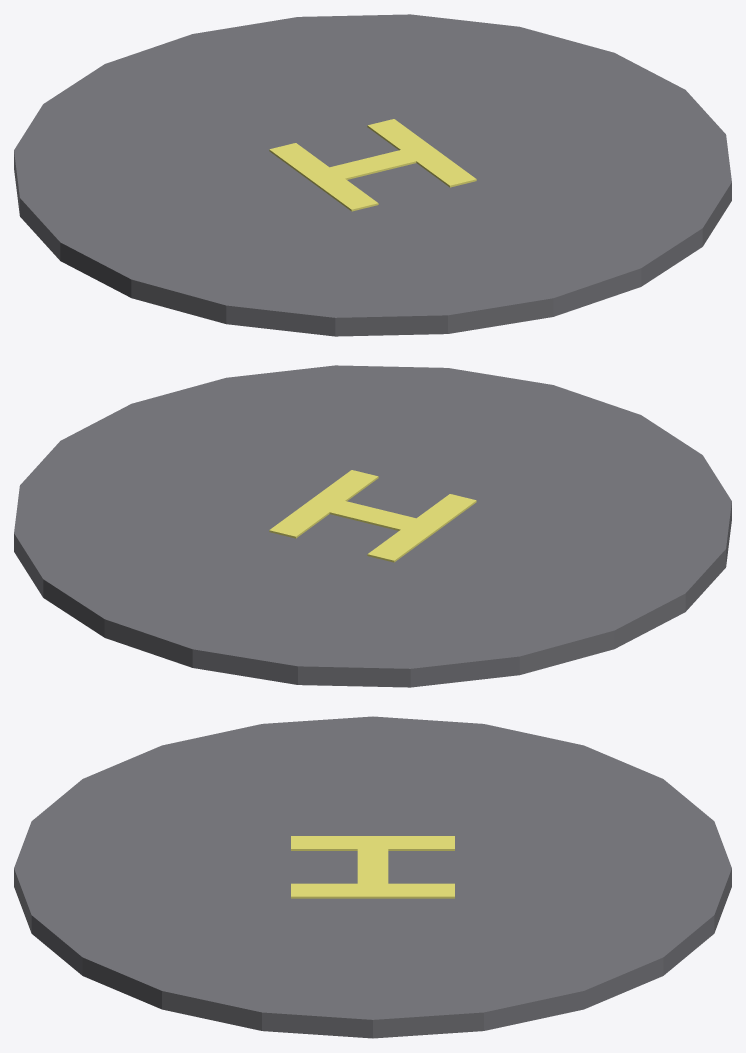
Rendered from helipad.glb.
The picture shows the model from 3 angles, top to bottom: view 1: azimuth 30°, elevation 25°; view 2: azimuth 150°, elevation 25°; view 3: azimuth 270°, elevation 25°; orthographic projection.
Parts seen in each view (by area): view 1: Pad, MarkLeft, MarkRight, MarkBar; view 2: Pad, MarkLeft, MarkRight, MarkBar; view 3: Pad, MarkRight, MarkLeft, MarkBar.
Boxes of the visible parts, <box> form: Pad: <box>14,14,731,336</box>; MarkLeft: <box>269,143,378,211</box>; MarkRight: <box>367,119,476,187</box>; MarkBar: <box>303,147,442,186</box>; Pad: <box>14,365,731,687</box>; MarkLeft: <box>367,494,476,562</box>; MarkRight: <box>269,470,378,538</box>; MarkBar: <box>303,498,442,537</box>; Pad: <box>14,716,731,1038</box>; MarkRight: <box>291,883,454,898</box>; MarkLeft: <box>291,836,454,850</box>; MarkBar: <box>357,836,388,898</box>.
Bounding box in the file's own units: 7 × 0.22 × 7.
